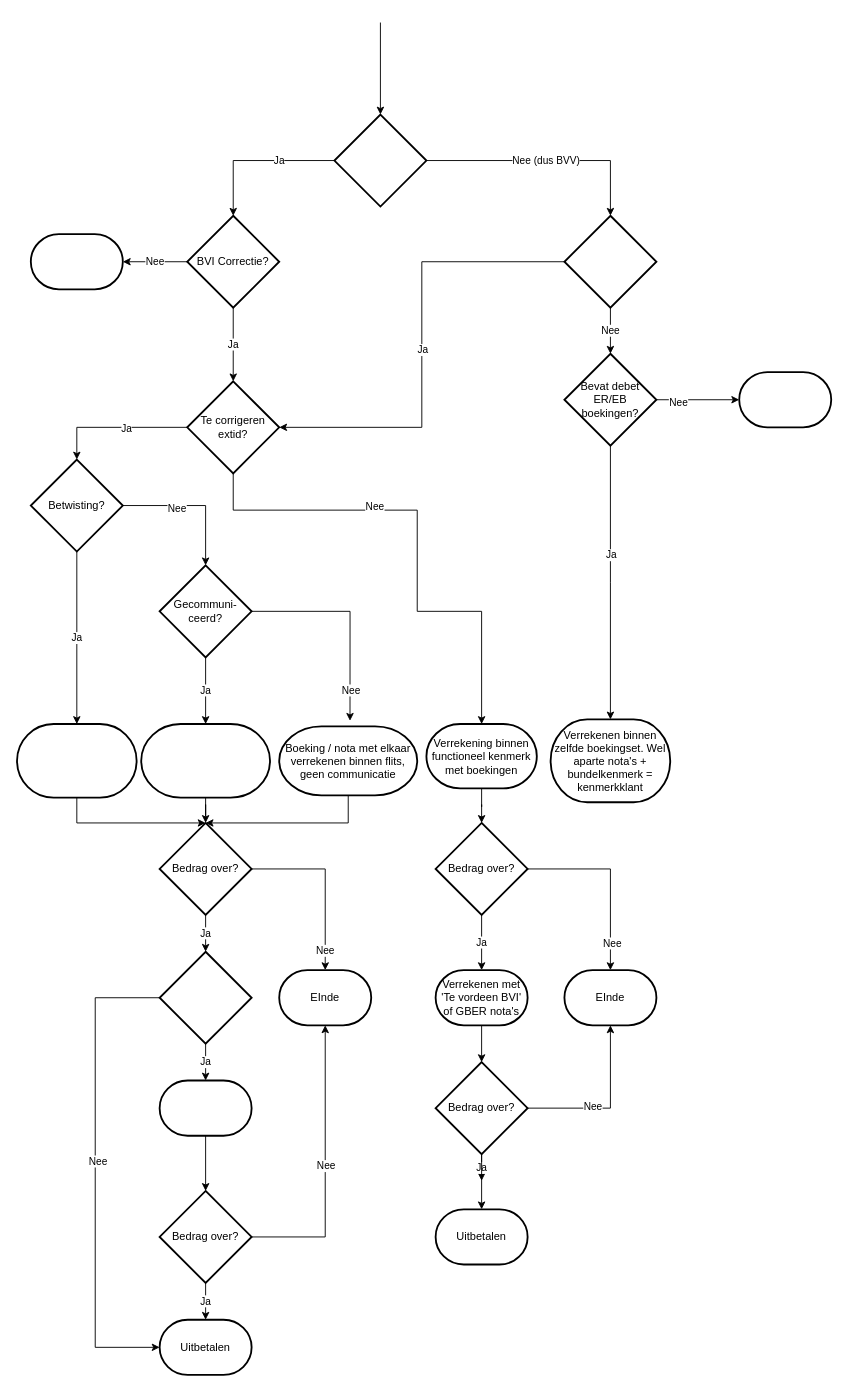
The diagram is 847 pixels wide and 1392 high, and some of its shapes have lost their labels. The centre of each missing label's shape, as x and y in pixels:
BVI?: point 380,160
Code ophouden schade (98,99) ?: point 205,997
Correctie BVV?: point 610,261
Normale BVI stroom: point 76,261
Normale BVV stroom: point 785,399
Verrekenen met andere boekingen binnen funct. kenmerk: point 205,760
Verrekenen met openstaande nota's: point 205,1107
Verrekening originele boeking / nota, transregel verwijderen, betwisting eraf: point 76,760
